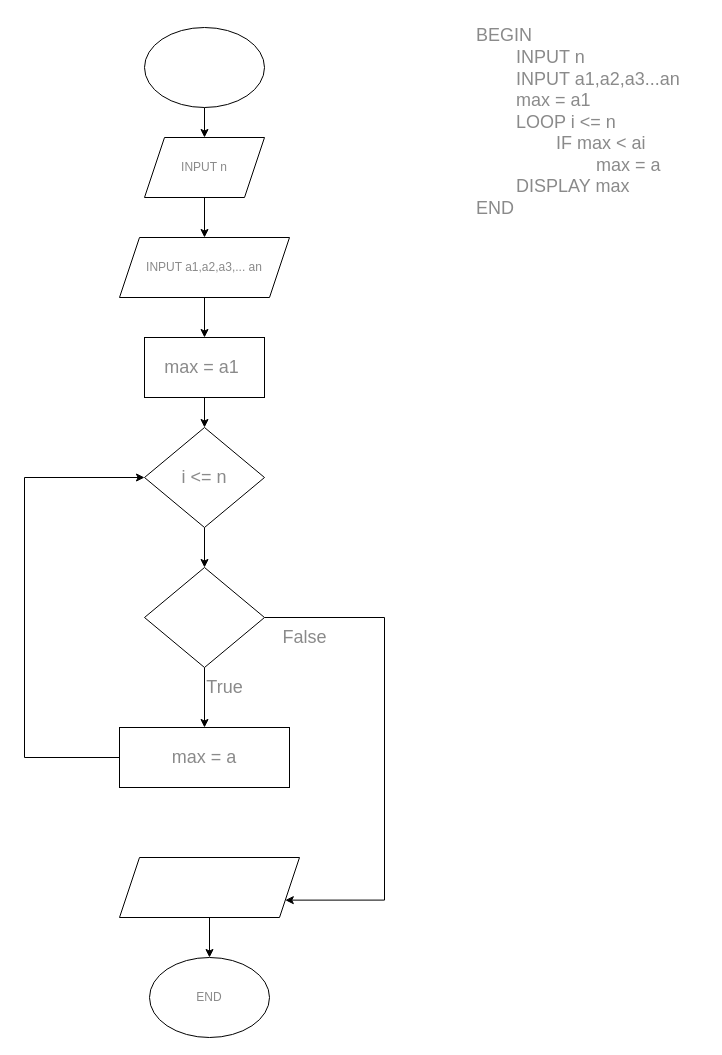
The diagram is 722 pixels wide and 1055 high, and some of its shapes have lost their labels. The shapes that lost their labels are listed below. From the top down, each one's centre as x and y in pixels, then its label:
At (x=204, y=67): "BEGIN".
At (x=204, y=617): "max < ai".
At (x=209, y=887): "DISPLAY max".
